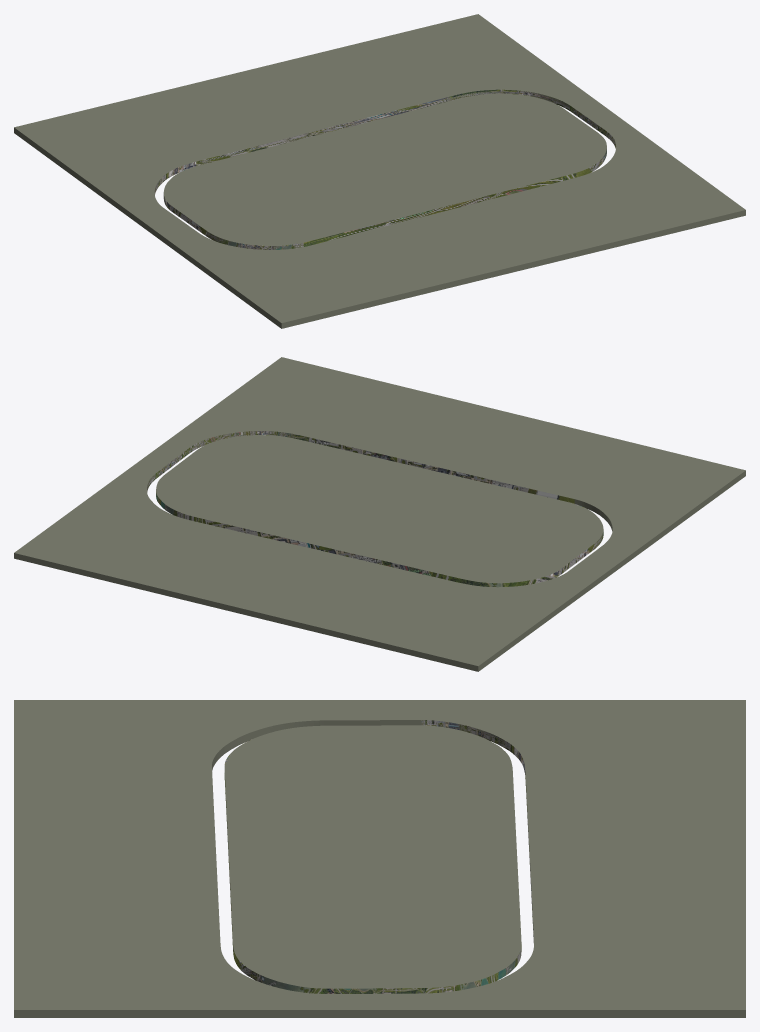
The model's file is IMS_track.dae.
3 renders of one model, top to bottom at view 1: azimuth 30°, elevation 25°; view 2: azimuth 150°, elevation 25°; view 3: azimuth 270°, elevation 25°, orthographic. The views are drawn at different scales.
Visible parts, largest first — view 1: IMS_track; view 2: IMS_track; view 3: IMS_track.
Boxes of the visible parts, x1=… form: IMS_track: x1=14, y1=14, x2=745, y2=328; IMS_track: x1=14, y1=357, x2=745, y2=671; IMS_track: x1=14, y1=700, x2=745, y2=1017.
Size of the model in its own units: 127 by 127 by 1.5.
1 material, 1 textured.
